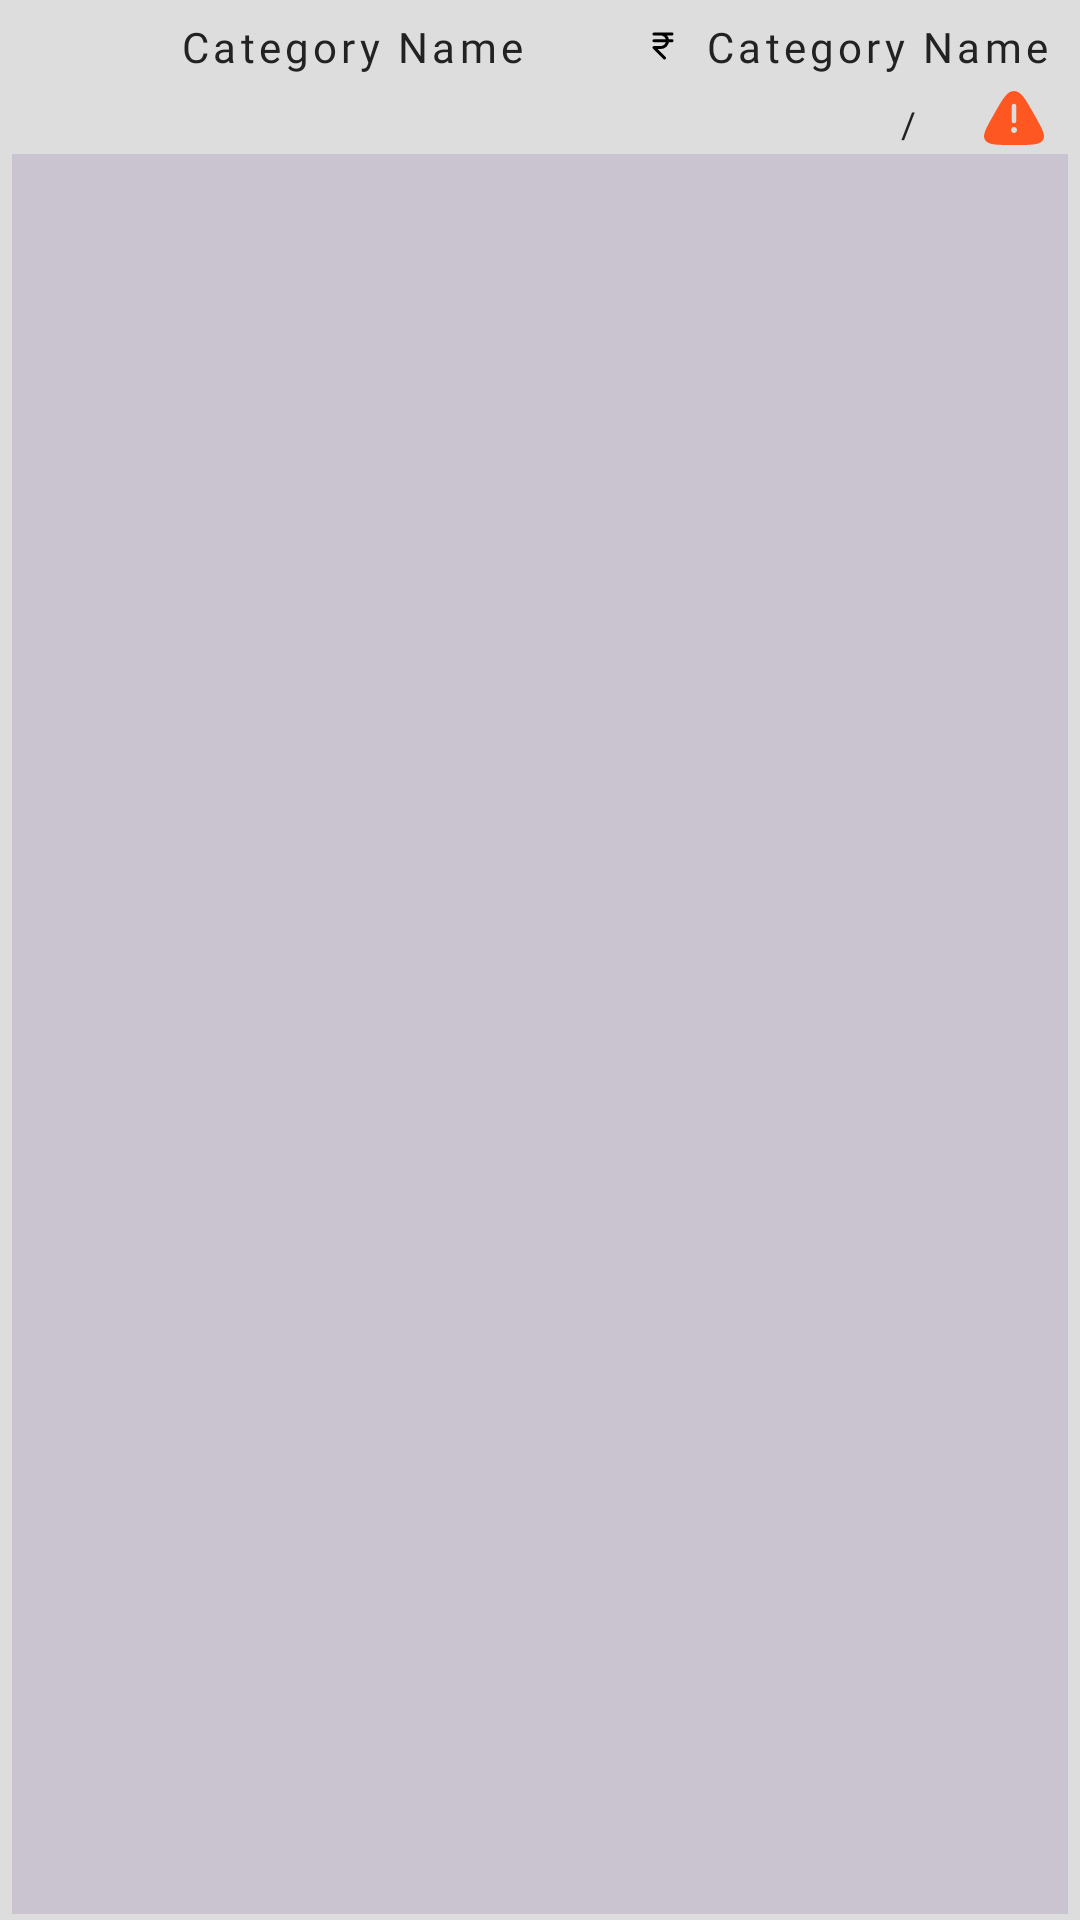

Icons on this 1080*1920 Android screen, each with the point to tap as [x,y]:
danger triangle: [1014,118]
